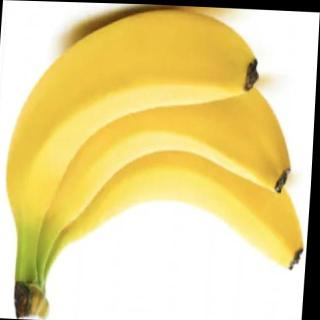banana: (5, 0, 264, 230), (38, 48, 300, 238), (54, 123, 314, 251)
